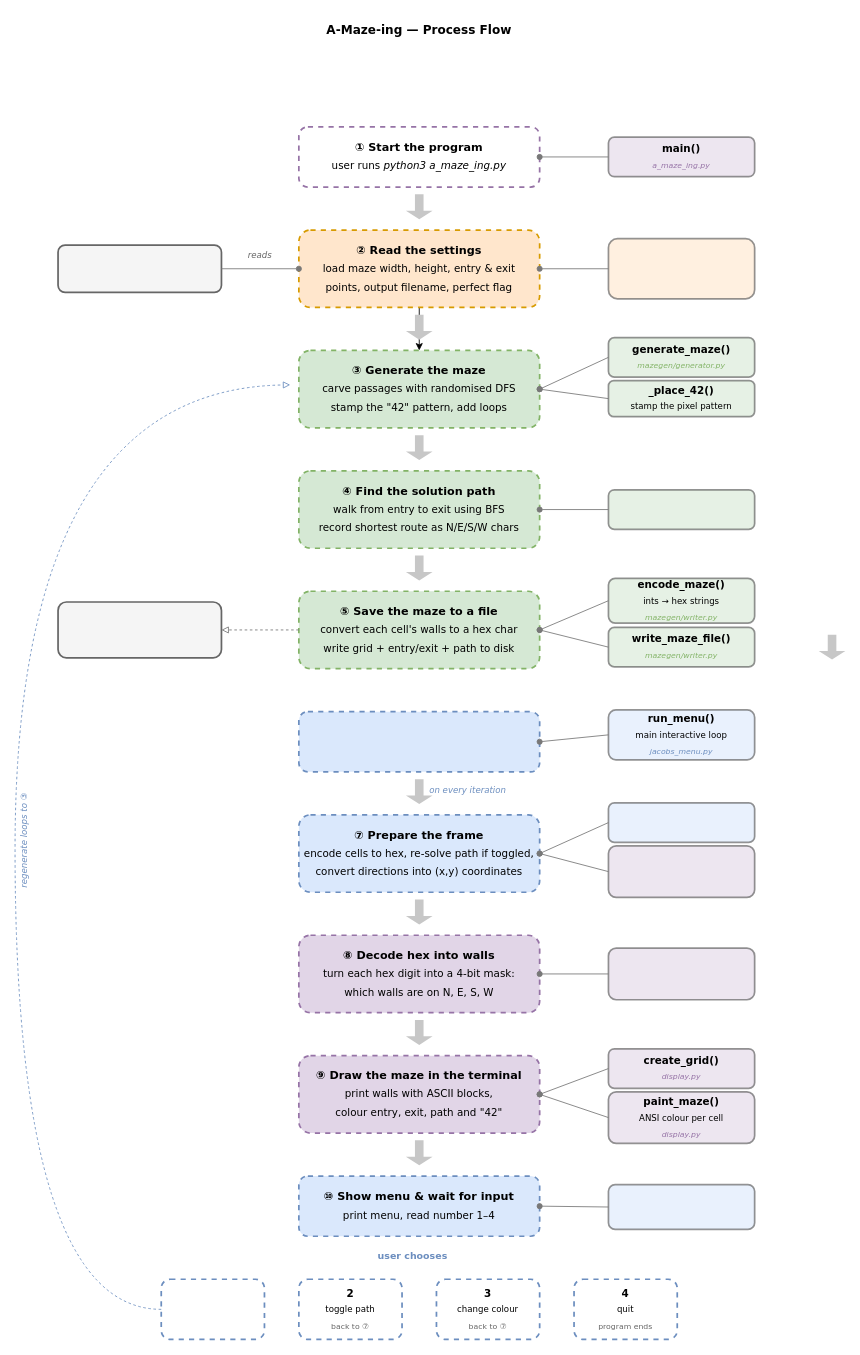
Image size: 860x1355. Some labels were removed from this diagram. The shapes that lost their labels are listed below. From the top down, each one's centre as x and y in pixels, then its label:
At point 139,268: "config.txt KEY=VALUE settings".
At point 681,268: "parse_config() read, validate, type-convert config_parser.py".
At point 681,509: "solve_maze() mazegen/solver.py".
At point 139,629: "maze.txt hex grid + entry/exit + path string".
At point 419,741: "⑥ Open the interactive menu clear screen, show options, wait for input".
At point 681,822: "_render() jacobs_menu.py".
At point 681,871: "process_directions() N/E/S/W → (x,y) list file_reader.py".
At point 681,973: "decode_cell() hex char → wall dict file_reader.py".
At point 681,1206: "_print_menu() jacobs_menu.py".
At point 212,1309: "1 regenerate back to ③".
